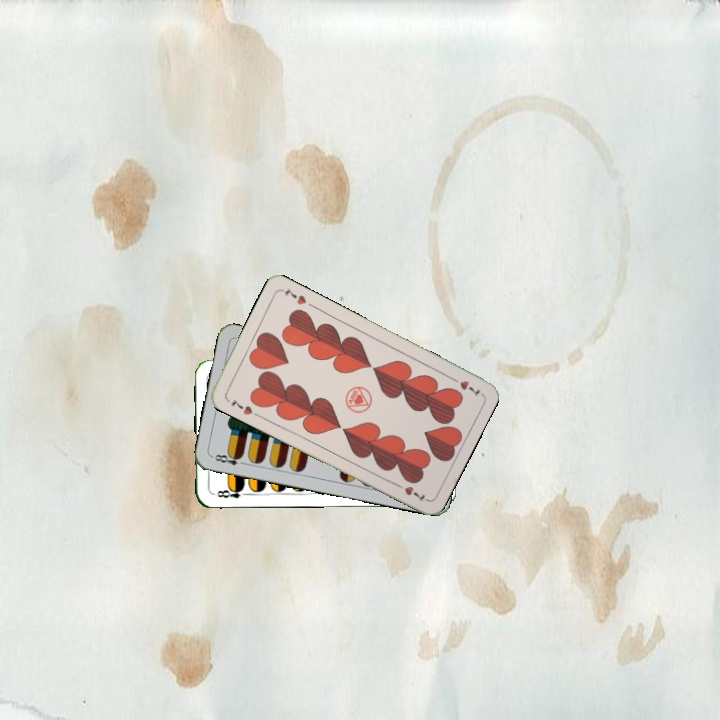E8: (209, 449, 249, 468), (213, 483, 251, 501)
H7: (446, 373, 483, 399), (227, 395, 255, 418)
